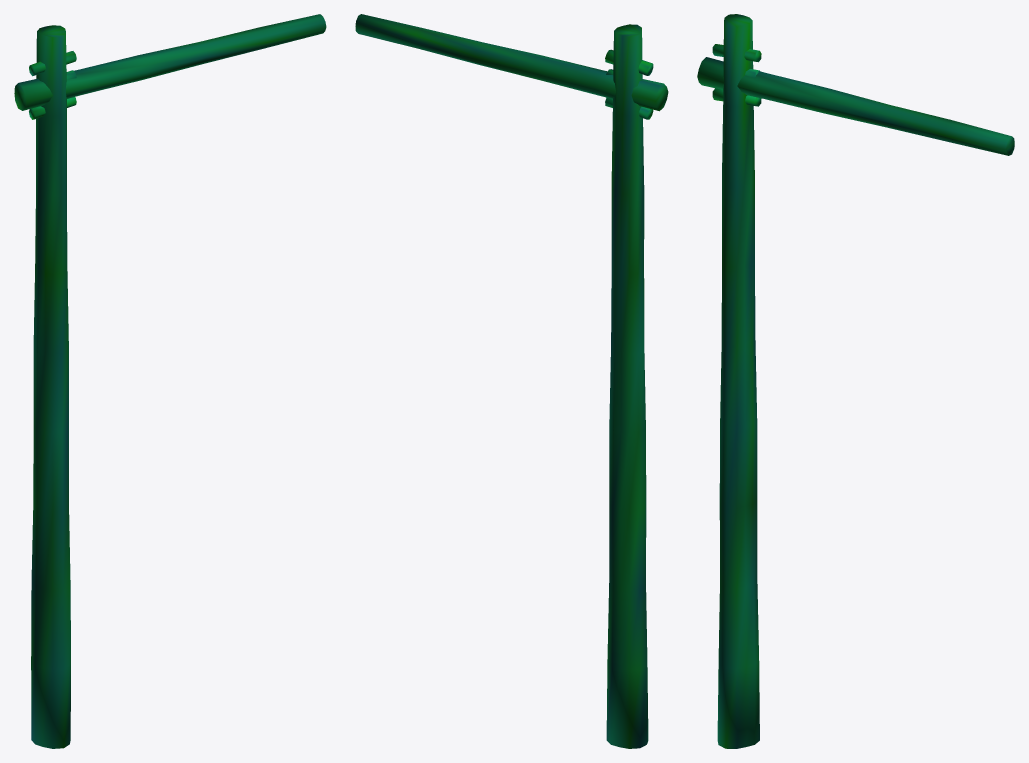
File: ExitPost_A.fbx
3 renders of one model, left to right at view 1: azimuth 30°, elevation 25°; view 2: azimuth 150°, elevation 25°; view 3: azimuth 330°, elevation 25°, orthographic.
Parts seen in each view (by area): view 1: ExitPost_A; view 2: ExitPost_A; view 3: ExitPost_A.
Boxes of the visible parts, x1,y1,x2,y2 form: ExitPost_A: (14, 14, 326, 748); ExitPost_A: (355, 14, 668, 748); ExitPost_A: (697, 14, 1014, 748).
Size of the model in its own units: 0.65 by 1.46 by 0.0768.
